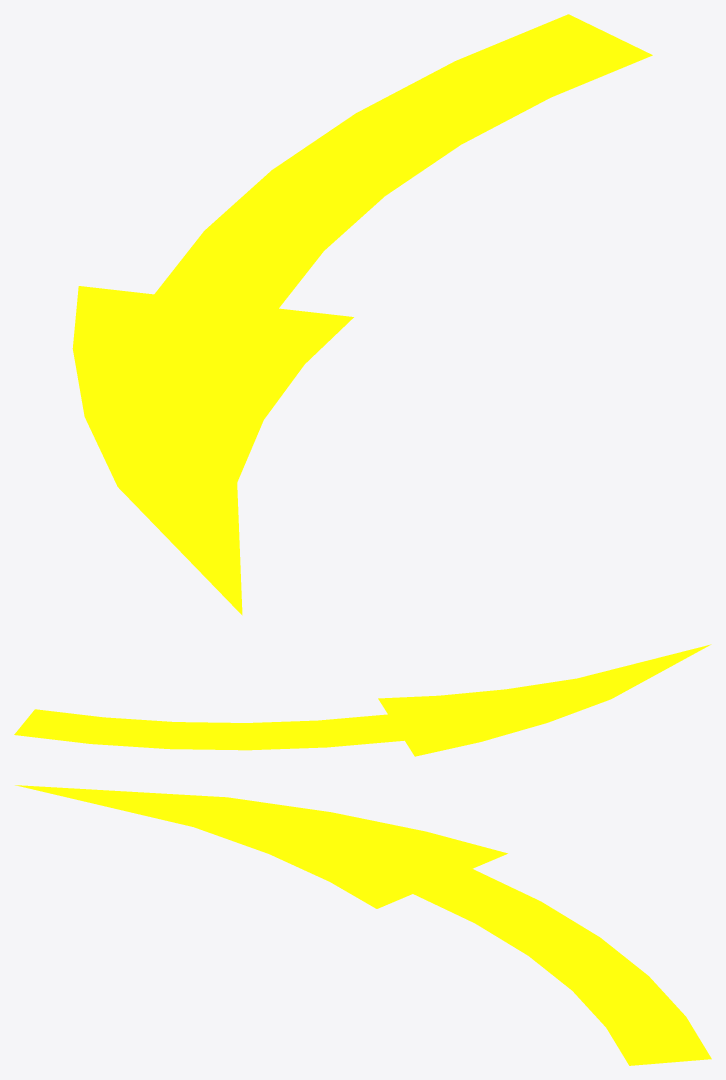
Rendered from Arrow_left.glb.
3 views of the same model, one above another, from view 1: azimuth 30°, elevation 25°; view 2: azimuth 150°, elevation 25°; view 3: azimuth 270°, elevation 25° (orthographic). The views are drawn at different scales.
Parts seen in each view (by area): view 1: 平面.020; view 2: 平面.020; view 3: 平面.020.
Boxes of the visible parts, <box> form: 平面.020: <box>72,14,652,615</box>; 平面.020: <box>14,644,711,756</box>; 平面.020: <box>15,785,711,1065</box>.
Bounding box in the file's own units: 3.9 × 0 × 4.09.
1 material, 1 textured.
